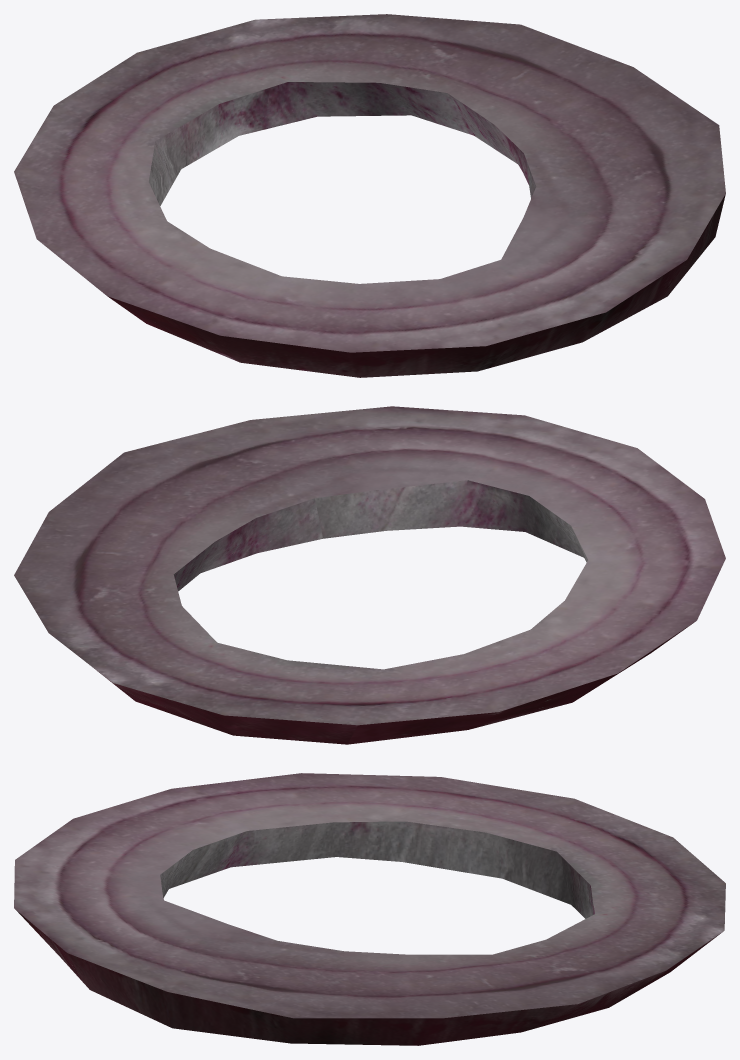
Rendered from Onion2.fbx.
3 views of the same model, one above another, from view 1: azimuth 30°, elevation 25°; view 2: azimuth 150°, elevation 25°; view 3: azimuth 270°, elevation 25° (orthographic). The views are drawn at different scales.
Visible parts, largest first — view 1: Onion_4; view 2: Onion_4; view 3: Onion_4.
Part boxes in pixels (bbox=[...]): Onion_4: bbox=[14, 14, 725, 377]; Onion_4: bbox=[14, 406, 725, 744]; Onion_4: bbox=[14, 773, 725, 1045].
Size of the model in its own units: 8.42 by 0.9052 by 9.44.
